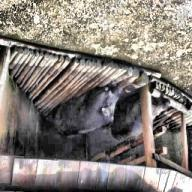boar: (43, 71, 138, 139), (110, 89, 171, 142)
